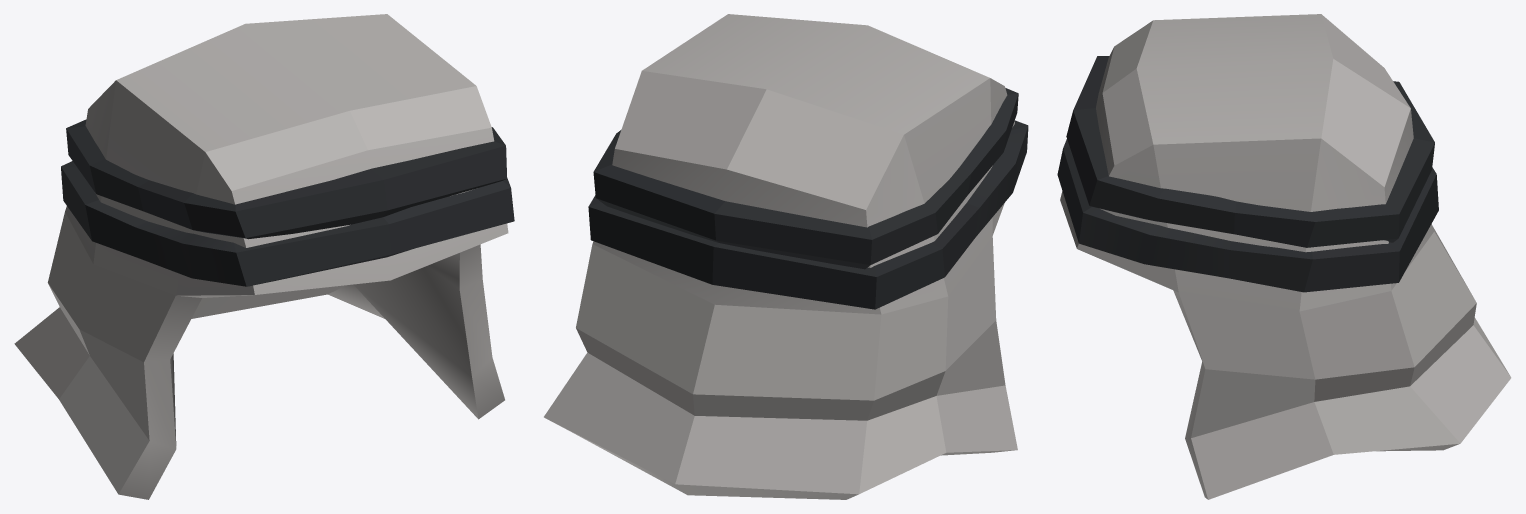
Rendered from SM_Chr_Attach_Hat_07.fbx.
3 views of the same model, side by side, from view 1: azimuth 30°, elevation 25°; view 2: azimuth 150°, elevation 25°; view 3: azimuth 270°, elevation 25° (orthographic). The views are drawn at different scales.
Visible parts, largest first — view 1: SM_Chr_Attach_Hat_07; view 2: SM_Chr_Attach_Hat_07; view 3: SM_Chr_Attach_Hat_07.
Part boxes in pixels (left/top/right/bottom): SM_Chr_Attach_Hat_07: left=14, top=14, right=514, bottom=499; SM_Chr_Attach_Hat_07: left=544, top=14, right=1028, bottom=499; SM_Chr_Attach_Hat_07: left=1057, top=14, right=1511, bottom=499.
Bounding box in the file's own units: 31.78 × 30.29 × 34.35.
